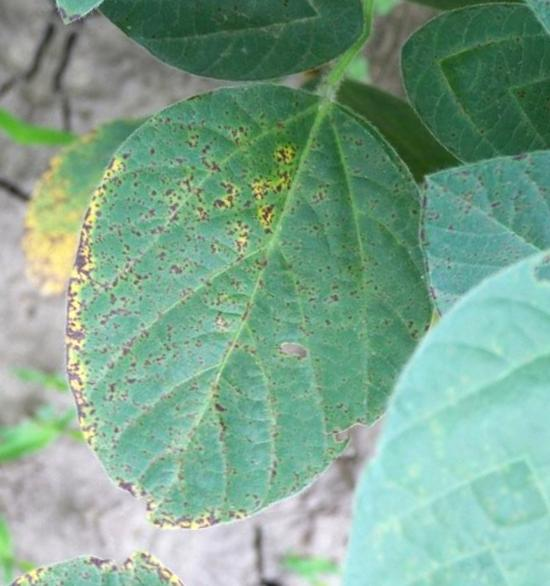Tomato Septoria leaf spot: (0, 23, 485, 586)
